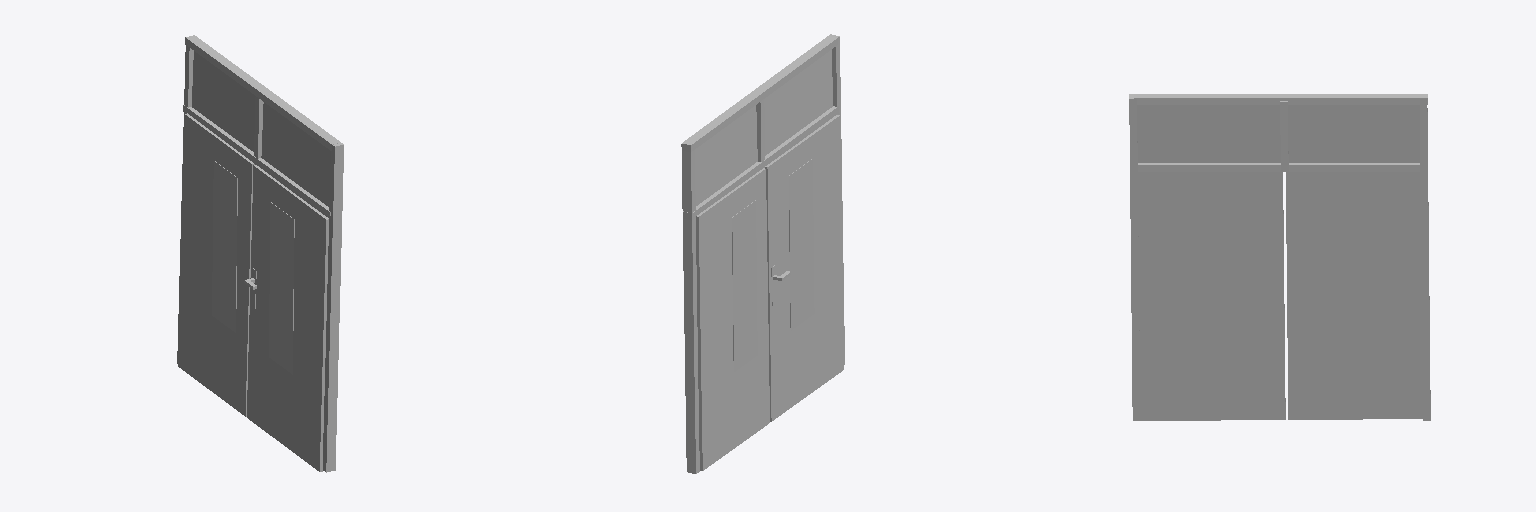
The model's file is pintuu.obj.
The picture shows the model from 3 angles: view 1: azimuth 30°, elevation 25°; view 2: azimuth 150°, elevation 25°; view 3: azimuth 270°, elevation 25°; orthographic projection.
Visible parts, largest first — view 1: Cube.007_Cube.009, Cube.006_Cube.008, Cube.002_Cube.005, Plane, Cube.010_Cube.013, Cube.009_Cube.002, Plane.001, Cube, Cube.003, Cube.001; view 2: Cube.007_Cube.009, Cube.006_Cube.008, Cube.001, Plane, Cube.010_Cube.013, Cube.009_Cube.002, Plane.001, Cube, Cube.003, Cube.002_Cube.005; view 3: Cube.007_Cube.009, Cube.006_Cube.008, Plane, Plane.001, Cube, Cube.002_Cube.005, Cube.001, Cube.003, Cube.004.
Boxes of the visible parts, box(x1,y1,x2,y2) form: Cube.007_Cube.009: box(247, 165, 328, 471); Cube.006_Cube.008: box(178, 113, 254, 416); Cube.002_Cube.005: box(323, 143, 343, 472); Plane: box(261, 102, 330, 206); Cube.010_Cube.013: box(212, 161, 237, 332); Cube.009_Cube.002: box(269, 202, 294, 374); Plane.001: box(192, 51, 255, 151); Cube: box(185, 35, 340, 150); Cube.003: box(183, 105, 330, 218); Cube.001: box(177, 45, 193, 363); Cube.007_Cube.009: box(765, 115, 843, 421); Cube.006_Cube.008: box(696, 168, 769, 470); Cube.001: box(681, 144, 699, 473); Plane: box(764, 50, 832, 155); Cube.010_Cube.013: box(732, 200, 757, 371); Cube.009_Cube.002: box(789, 159, 814, 330); Plane.001: box(695, 105, 757, 205); Cube: box(682, 36, 837, 152); Cube.003: box(683, 106, 838, 220); Cube.002_Cube.005: box(829, 34, 844, 364); Cube.007_Cube.009: box(1138, 172, 1285, 420); Cube.006_Cube.008: box(1286, 172, 1422, 419); Plane: box(1137, 105, 1280, 162); Plane.001: box(1288, 105, 1419, 162); Cube: box(1134, 94, 1427, 104); Cube.002_Cube.005: box(1129, 94, 1139, 420); Cube.001: box(1420, 99, 1430, 420); Cube.003: box(1138, 163, 1419, 171); Cube.004: box(1280, 101, 1288, 171).
Size of the model in its own units: 1.08 by 13.1 by 10.93.